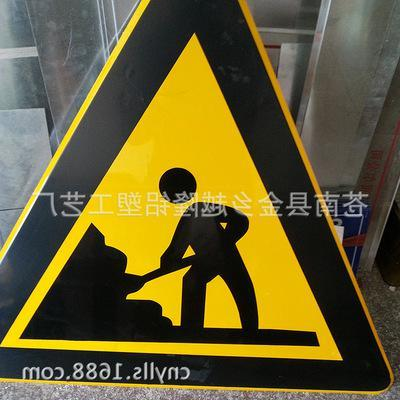sign: (1, 1, 394, 391)
